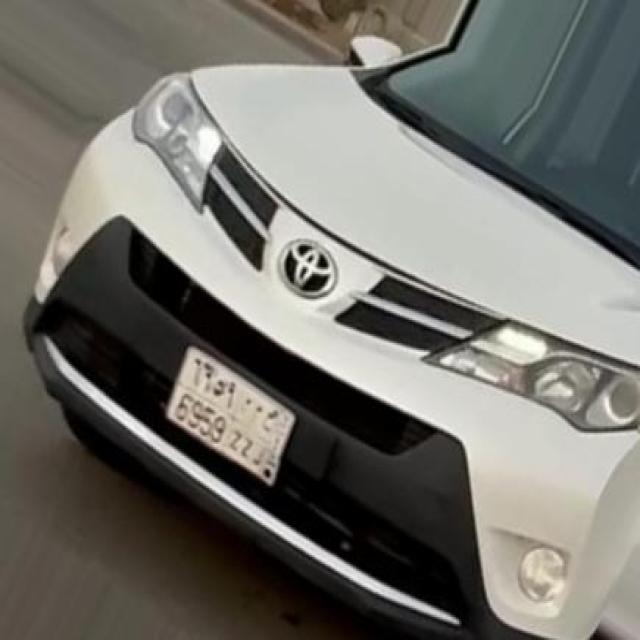Car-plate: (144, 313, 335, 530)
